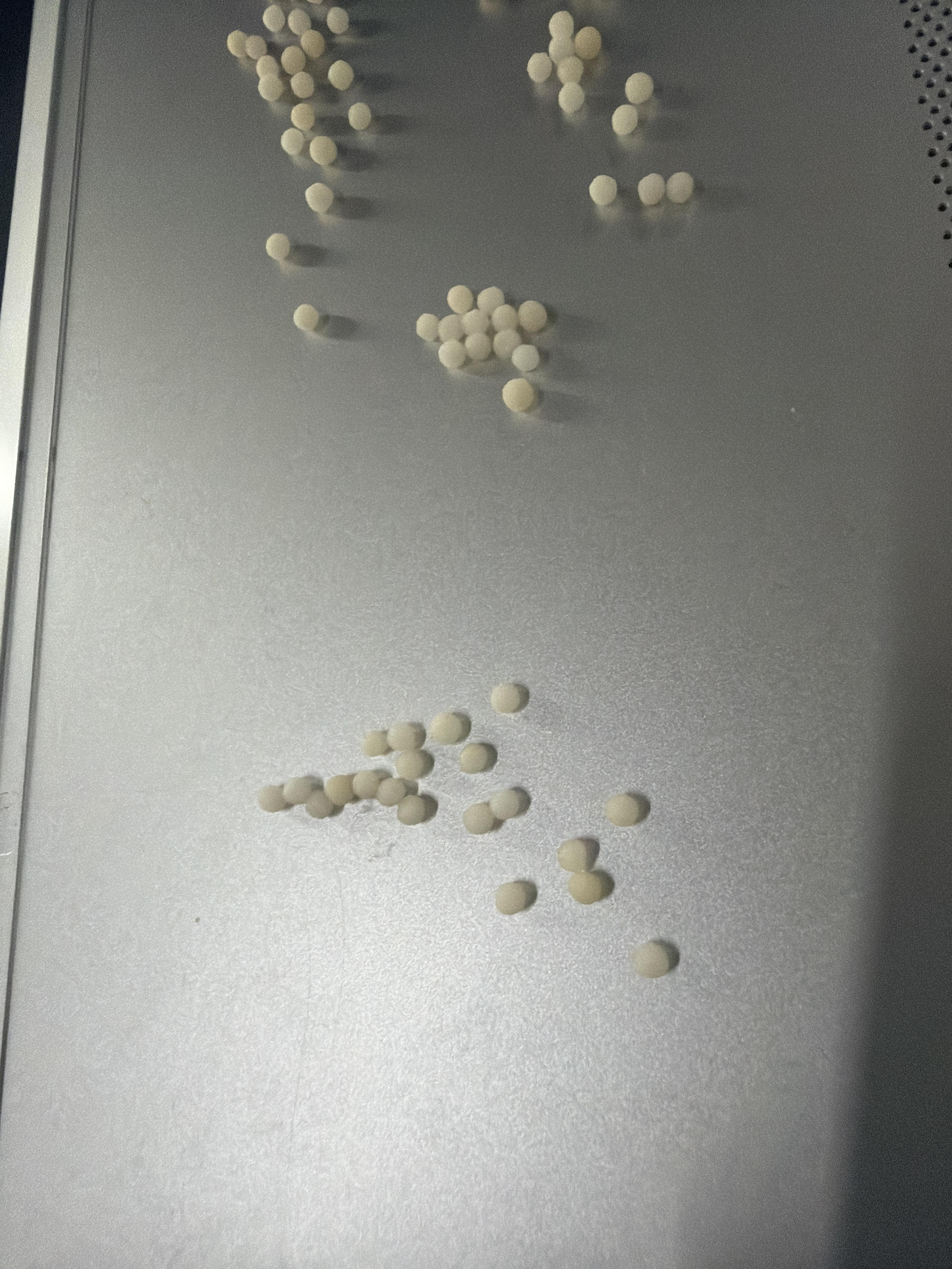pill: (631, 940, 674, 978), (557, 838, 598, 873), (604, 793, 647, 826), (495, 881, 535, 915), (429, 712, 470, 745), (568, 871, 606, 905), (489, 789, 528, 821), (394, 749, 433, 780), (490, 683, 529, 714), (502, 378, 536, 412), (462, 802, 496, 835), (387, 722, 425, 751), (460, 743, 495, 774), (282, 776, 319, 805), (324, 775, 355, 807), (518, 300, 548, 333), (376, 777, 408, 807), (304, 789, 337, 818), (574, 26, 602, 60), (397, 794, 427, 825), (637, 173, 665, 206), (353, 770, 384, 799), (493, 329, 521, 361), (666, 172, 694, 204), (626, 72, 653, 105), (438, 339, 467, 369), (305, 183, 334, 213), (589, 175, 617, 206), (558, 82, 585, 114), (612, 103, 638, 136), (258, 786, 291, 812), (511, 344, 539, 374), (309, 136, 337, 166), (447, 284, 474, 315), (328, 59, 354, 91), (464, 332, 492, 361), (477, 286, 505, 315), (548, 36, 575, 66), (491, 303, 519, 331), (361, 730, 390, 757), (527, 53, 553, 83), (461, 308, 489, 335), (293, 304, 320, 332), (258, 73, 284, 102), (300, 30, 326, 59), (281, 45, 306, 75), (265, 233, 291, 261), (558, 55, 583, 84), (290, 70, 315, 99), (291, 102, 315, 132), (280, 127, 305, 155), (549, 10, 574, 38), (287, 8, 311, 37), (262, 3, 285, 33), (439, 314, 464, 341), (348, 102, 372, 130), (326, 6, 349, 35), (416, 313, 439, 341), (255, 54, 280, 79), (245, 35, 267, 62), (226, 29, 247, 57)
